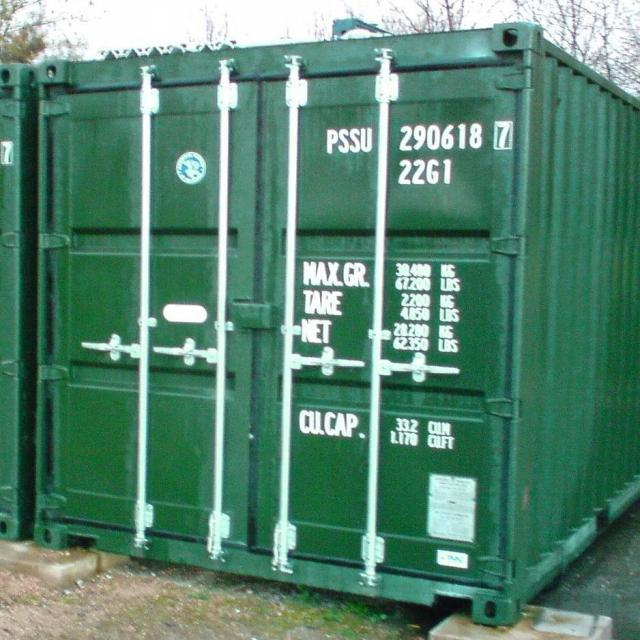ISO: (399, 158, 453, 186)
container_number: (332, 122, 512, 153)
